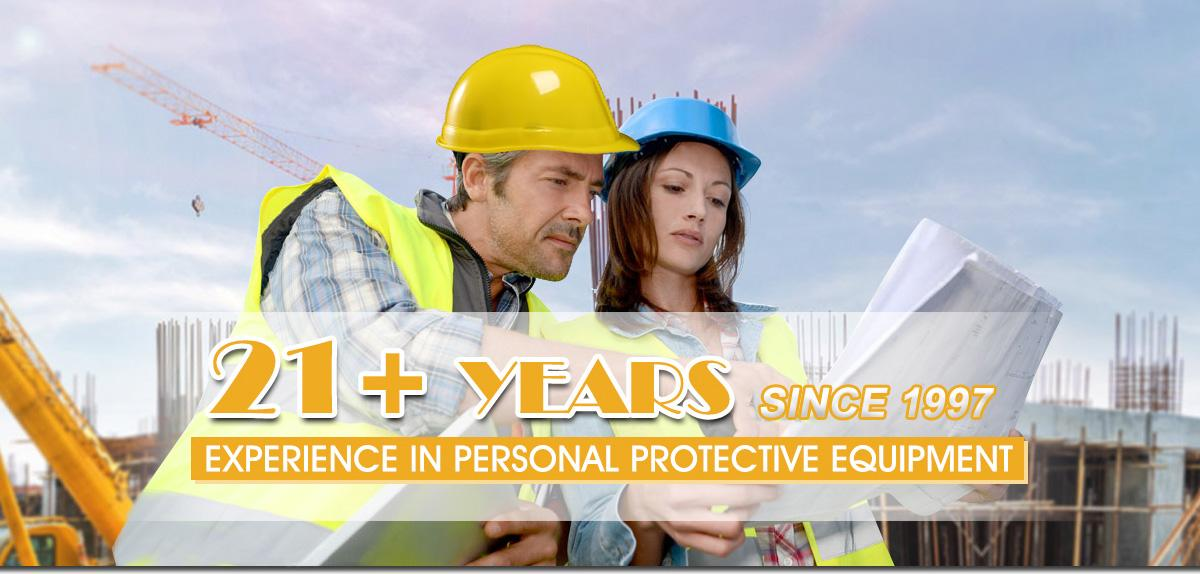helmet: (442, 46, 641, 159), (619, 96, 766, 178)
